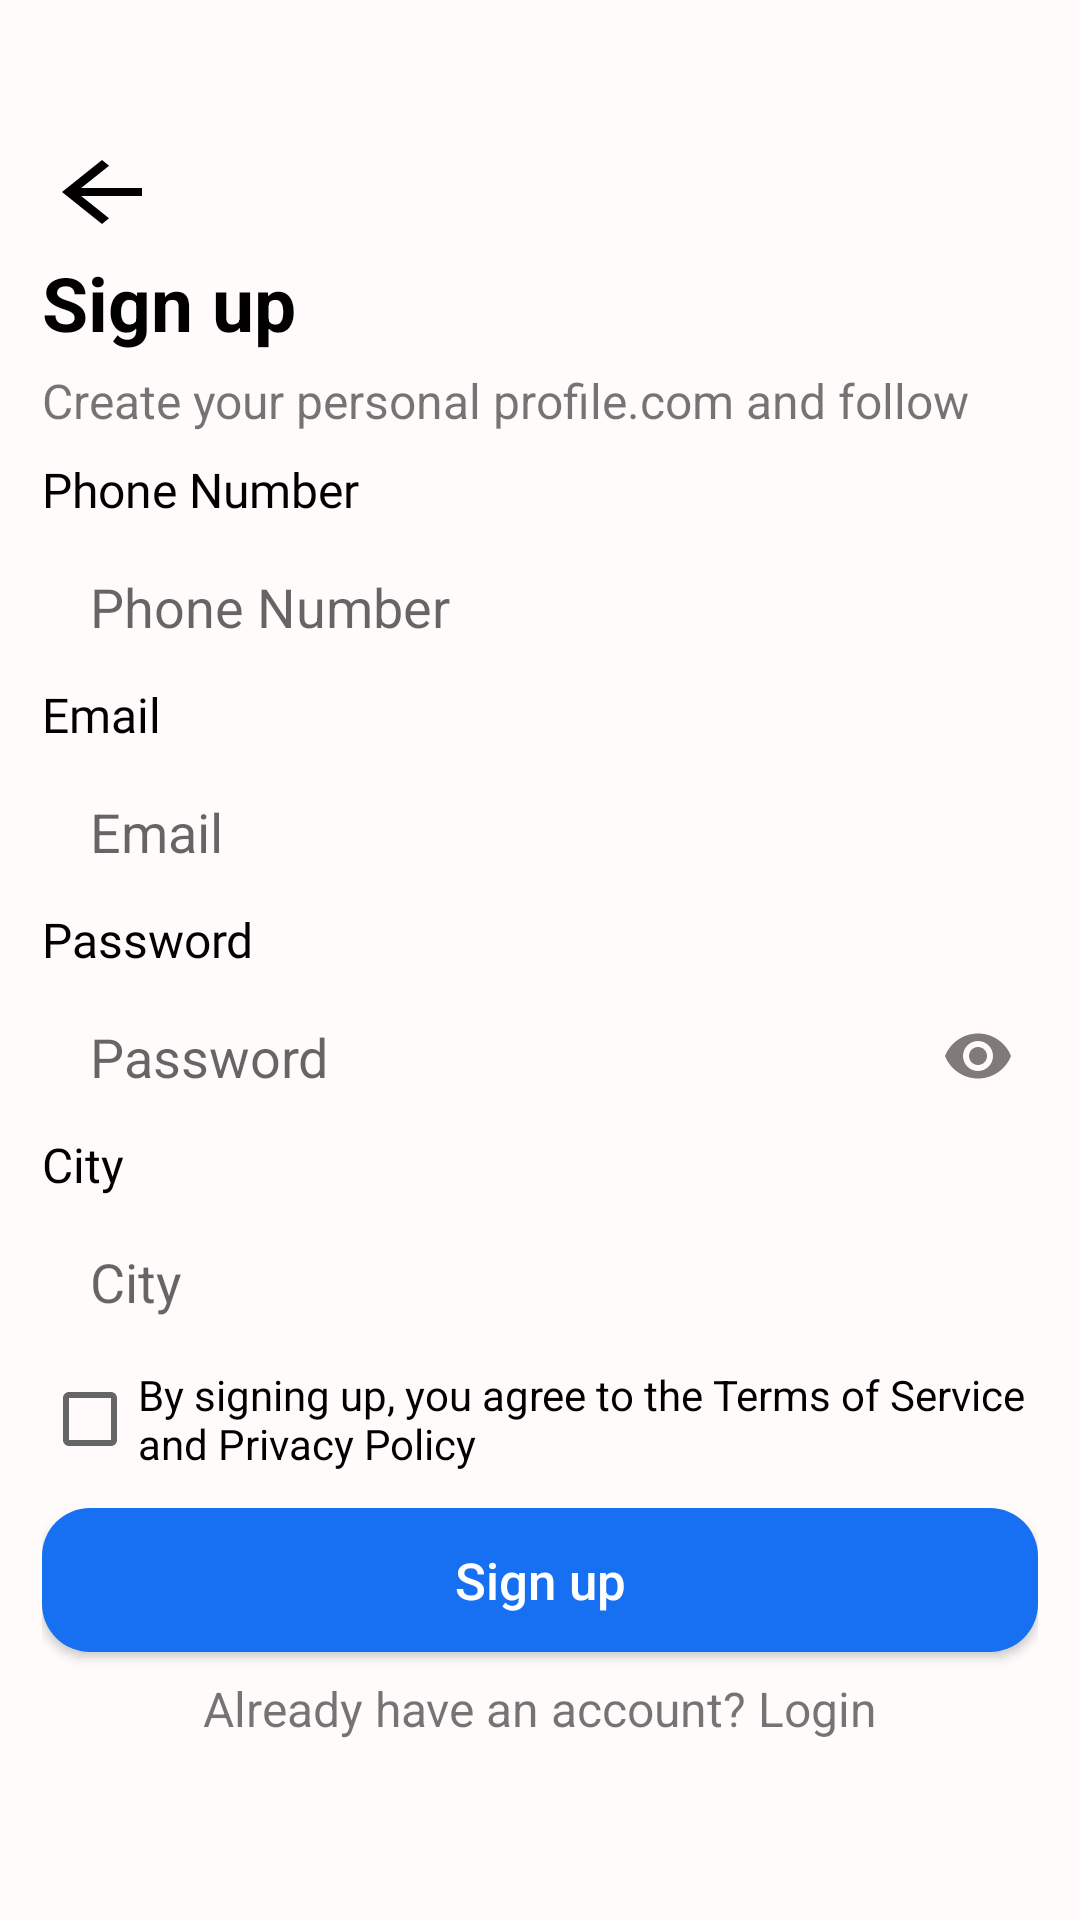

Icon bounding boxes for this 1080w x 1920h phone screenshot, format (x1, y1, x2, y2):
arrow: (62, 160, 142, 224)
